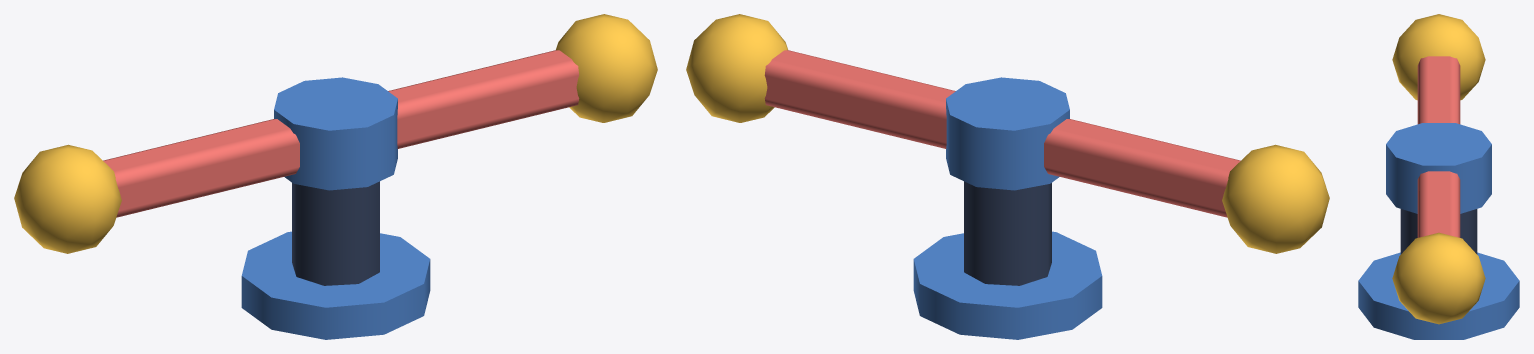
File: rotating-sweeper.glb
The picture shows the model from 3 angles, left to right: view 1: azimuth 30°, elevation 25°; view 2: azimuth 150°, elevation 25°; view 3: azimuth 270°, elevation 25°; orthographic projection. The views are drawn at different scales.
Parts seen in each view (by area): view 1: arm, base, hub, bumper--1.22, pedestal, bumper-1.22; view 2: arm, base, hub, bumper--1.22, pedestal, bumper-1.22; view 3: hub, base, bumper-1.22, arm, bumper--1.22, pedestal.
Boxes of the visible parts, x1,y1,x2,y2 form: arm: (103,50,579,217); base: (241,231,430,339); hub: (274,77,397,190); bumper--1.22: (14,144,121,253); pedestal: (292,181,379,285); bumper-1.22: (556,14,657,122); arm: (764,50,1240,217); base: (913,231,1102,339); hub: (946,77,1069,190); bumper--1.22: (1222,144,1329,253); pedestal: (964,181,1051,285); bumper-1.22: (686,14,787,122); hub: (1386,123,1491,213); base: (1358,252,1519,339); bumper-1.22: (1392,232,1485,324); arm: (1417,56,1460,237); bumper--1.22: (1392,14,1485,100); pedestal: (1400,209,1477,254).
Bounding box in the file's own units: 2.86 × 0.94 × 0.76.
